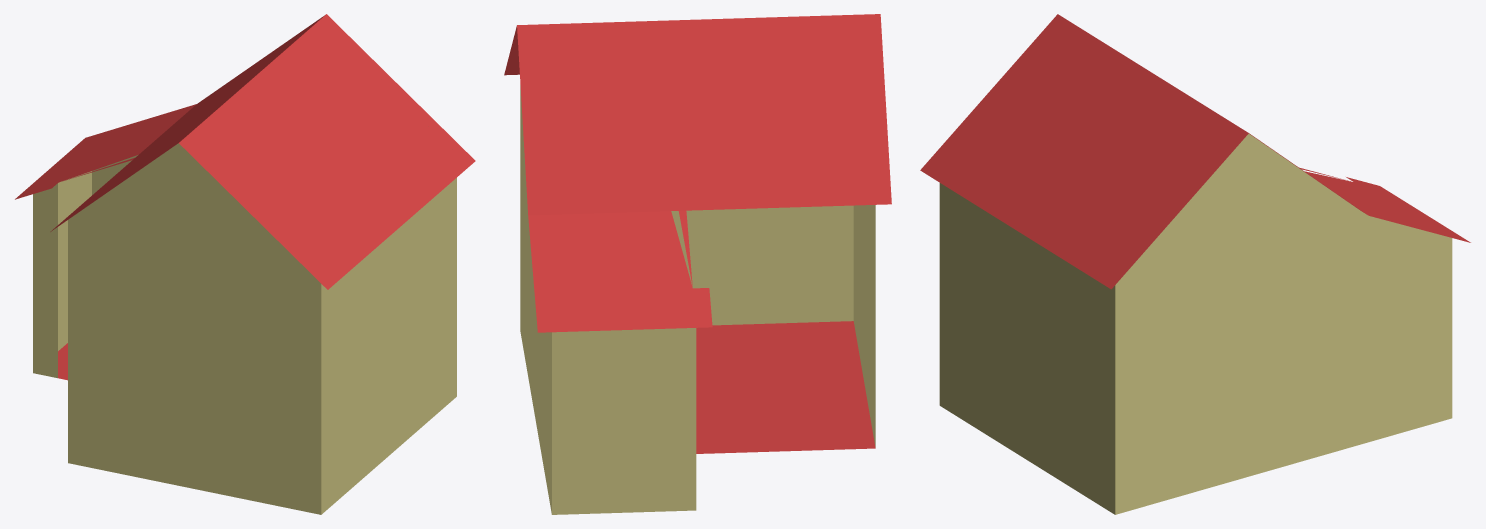
The picture shows the model from 3 angles, left to right: view 1: azimuth 30°, elevation 25°; view 2: azimuth 150°, elevation 25°; view 3: azimuth 270°, elevation 25°; orthographic projection. The views are drawn at different scales.
Bounding box in the file's own units: 16.05 × 19.4 × 13.6.
